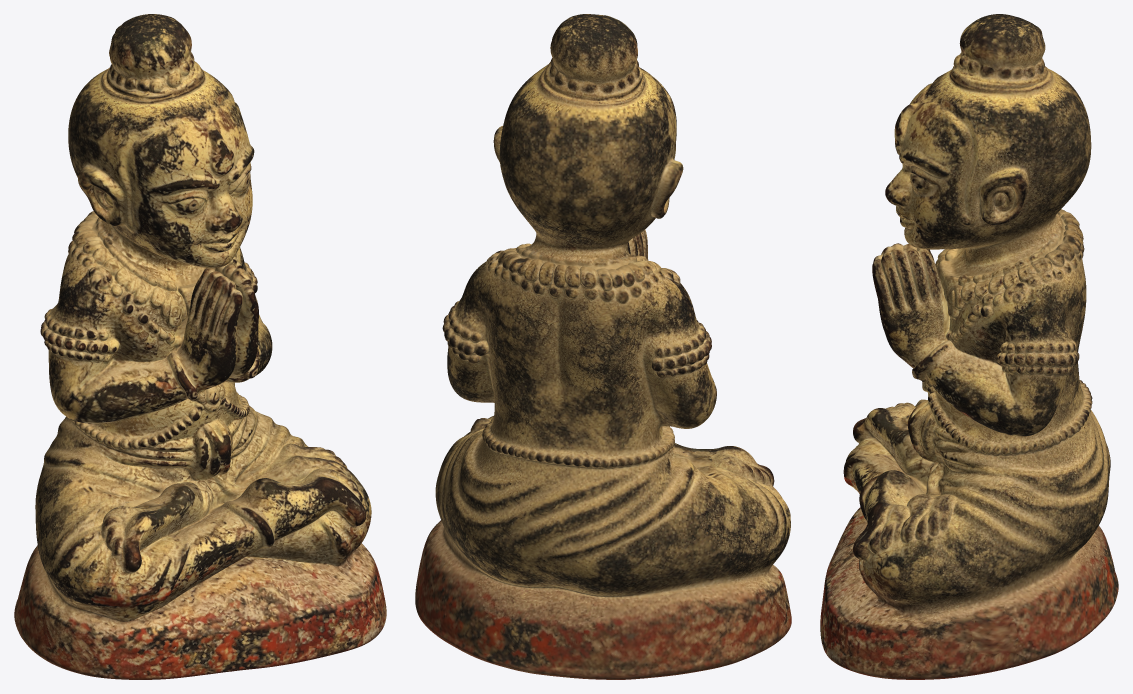
File: original-kuman.glb
The picture shows the model from 3 angles, left to right: view 1: azimuth 30°, elevation 25°; view 2: azimuth 150°, elevation 25°; view 3: azimuth 270°, elevation 25°; orthographic projection. The views are drawn at different scales.
Parts seen in each view (by area): view 1: Mesh_0; view 2: Mesh_0; view 3: Mesh_0.
Boxes of the visible parts, left/top/right/bottom form: Mesh_0: left=14, top=14, right=386, bottom=679; Mesh_0: left=415, top=14, right=791, bottom=679; Mesh_0: left=820, top=14, right=1118, bottom=679.
Bounding box in the file's own units: 1.1 × 1.9 × 0.8865.
1 material, 1 textured.
